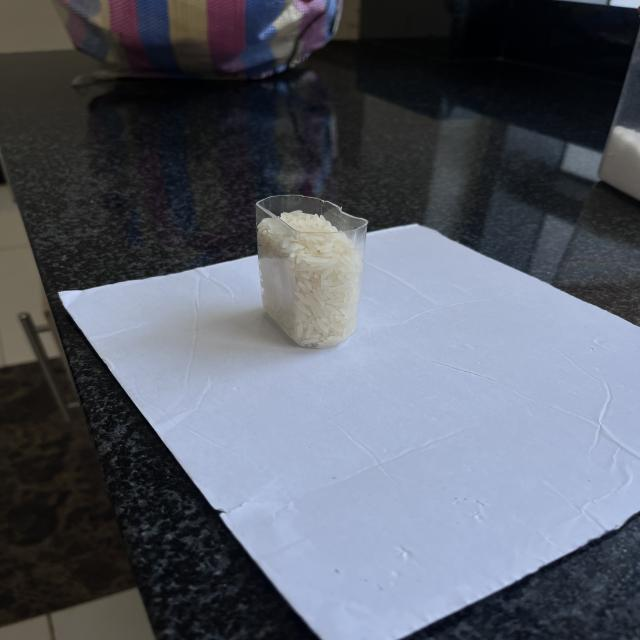raw_rice: (263, 212, 358, 348)
